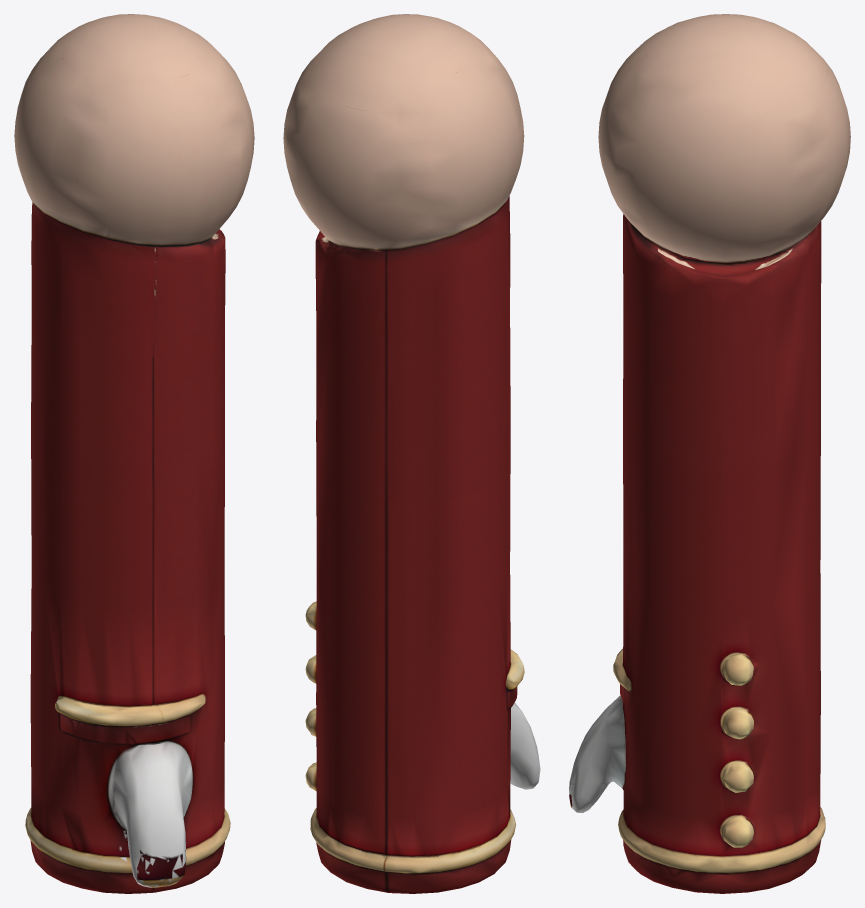
3 renders of one model, left to right at view 1: azimuth 30°, elevation 25°; view 2: azimuth 150°, elevation 25°; view 3: azimuth 270°, elevation 25°, orthographic.
Parts seen in each view (by area): view 1: repaired; view 2: repaired; view 3: repaired.
Part boxes in pixels (x1,y1,x2,y2): repaired: (14,14,254,893); repaired: (283,14,540,893); repaired: (569,14,850,893).
Bounding box in the file's own units: 0.2583 × 0.9995 × 0.303.
1 material, 1 textured.
